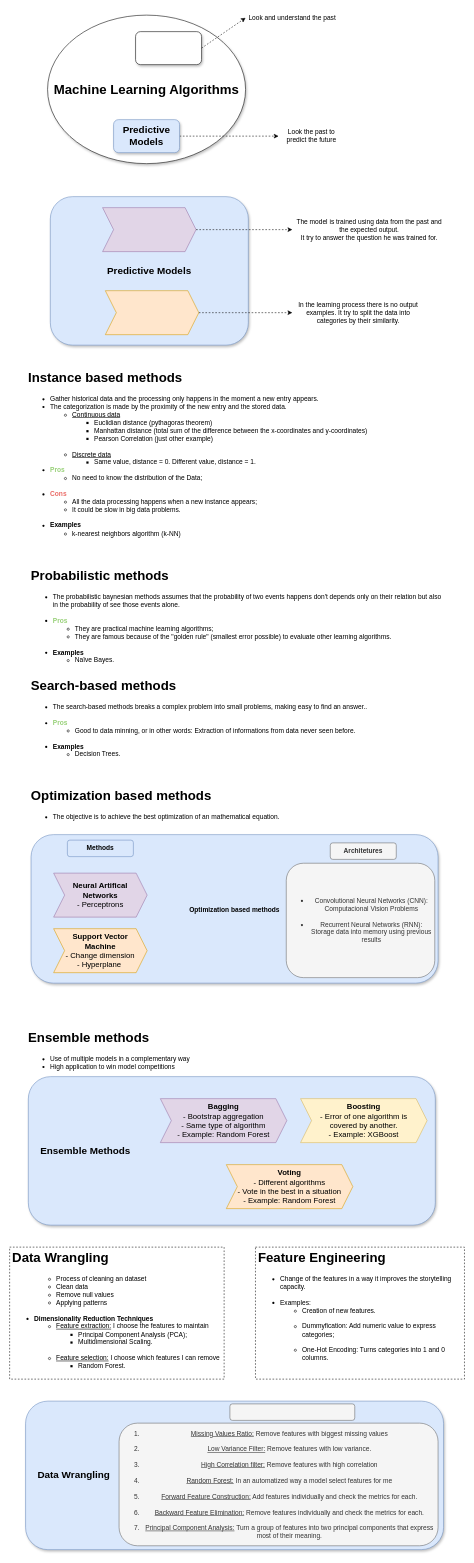
The diagram is 474 pixels wide and 1563 high, and some of its shapes have lost their labels. Each missing label, with the centre of its shape:
Descritive Models: point 169,48
Dimensionality Reduction Techniques: point 292,1411
Non-supervisioned Learning: point 152,312
Supervisioned Learning: point 149,229
